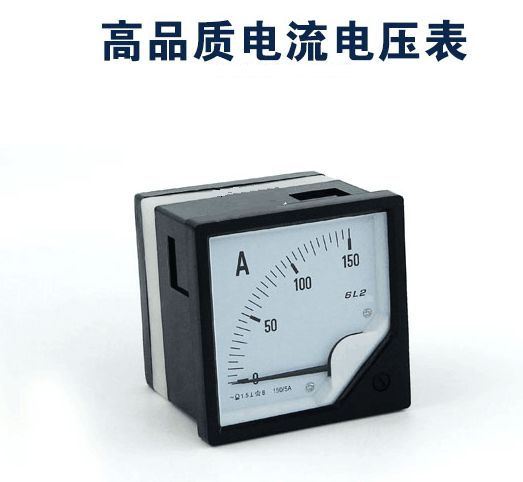pointer: (208, 213, 393, 427)
